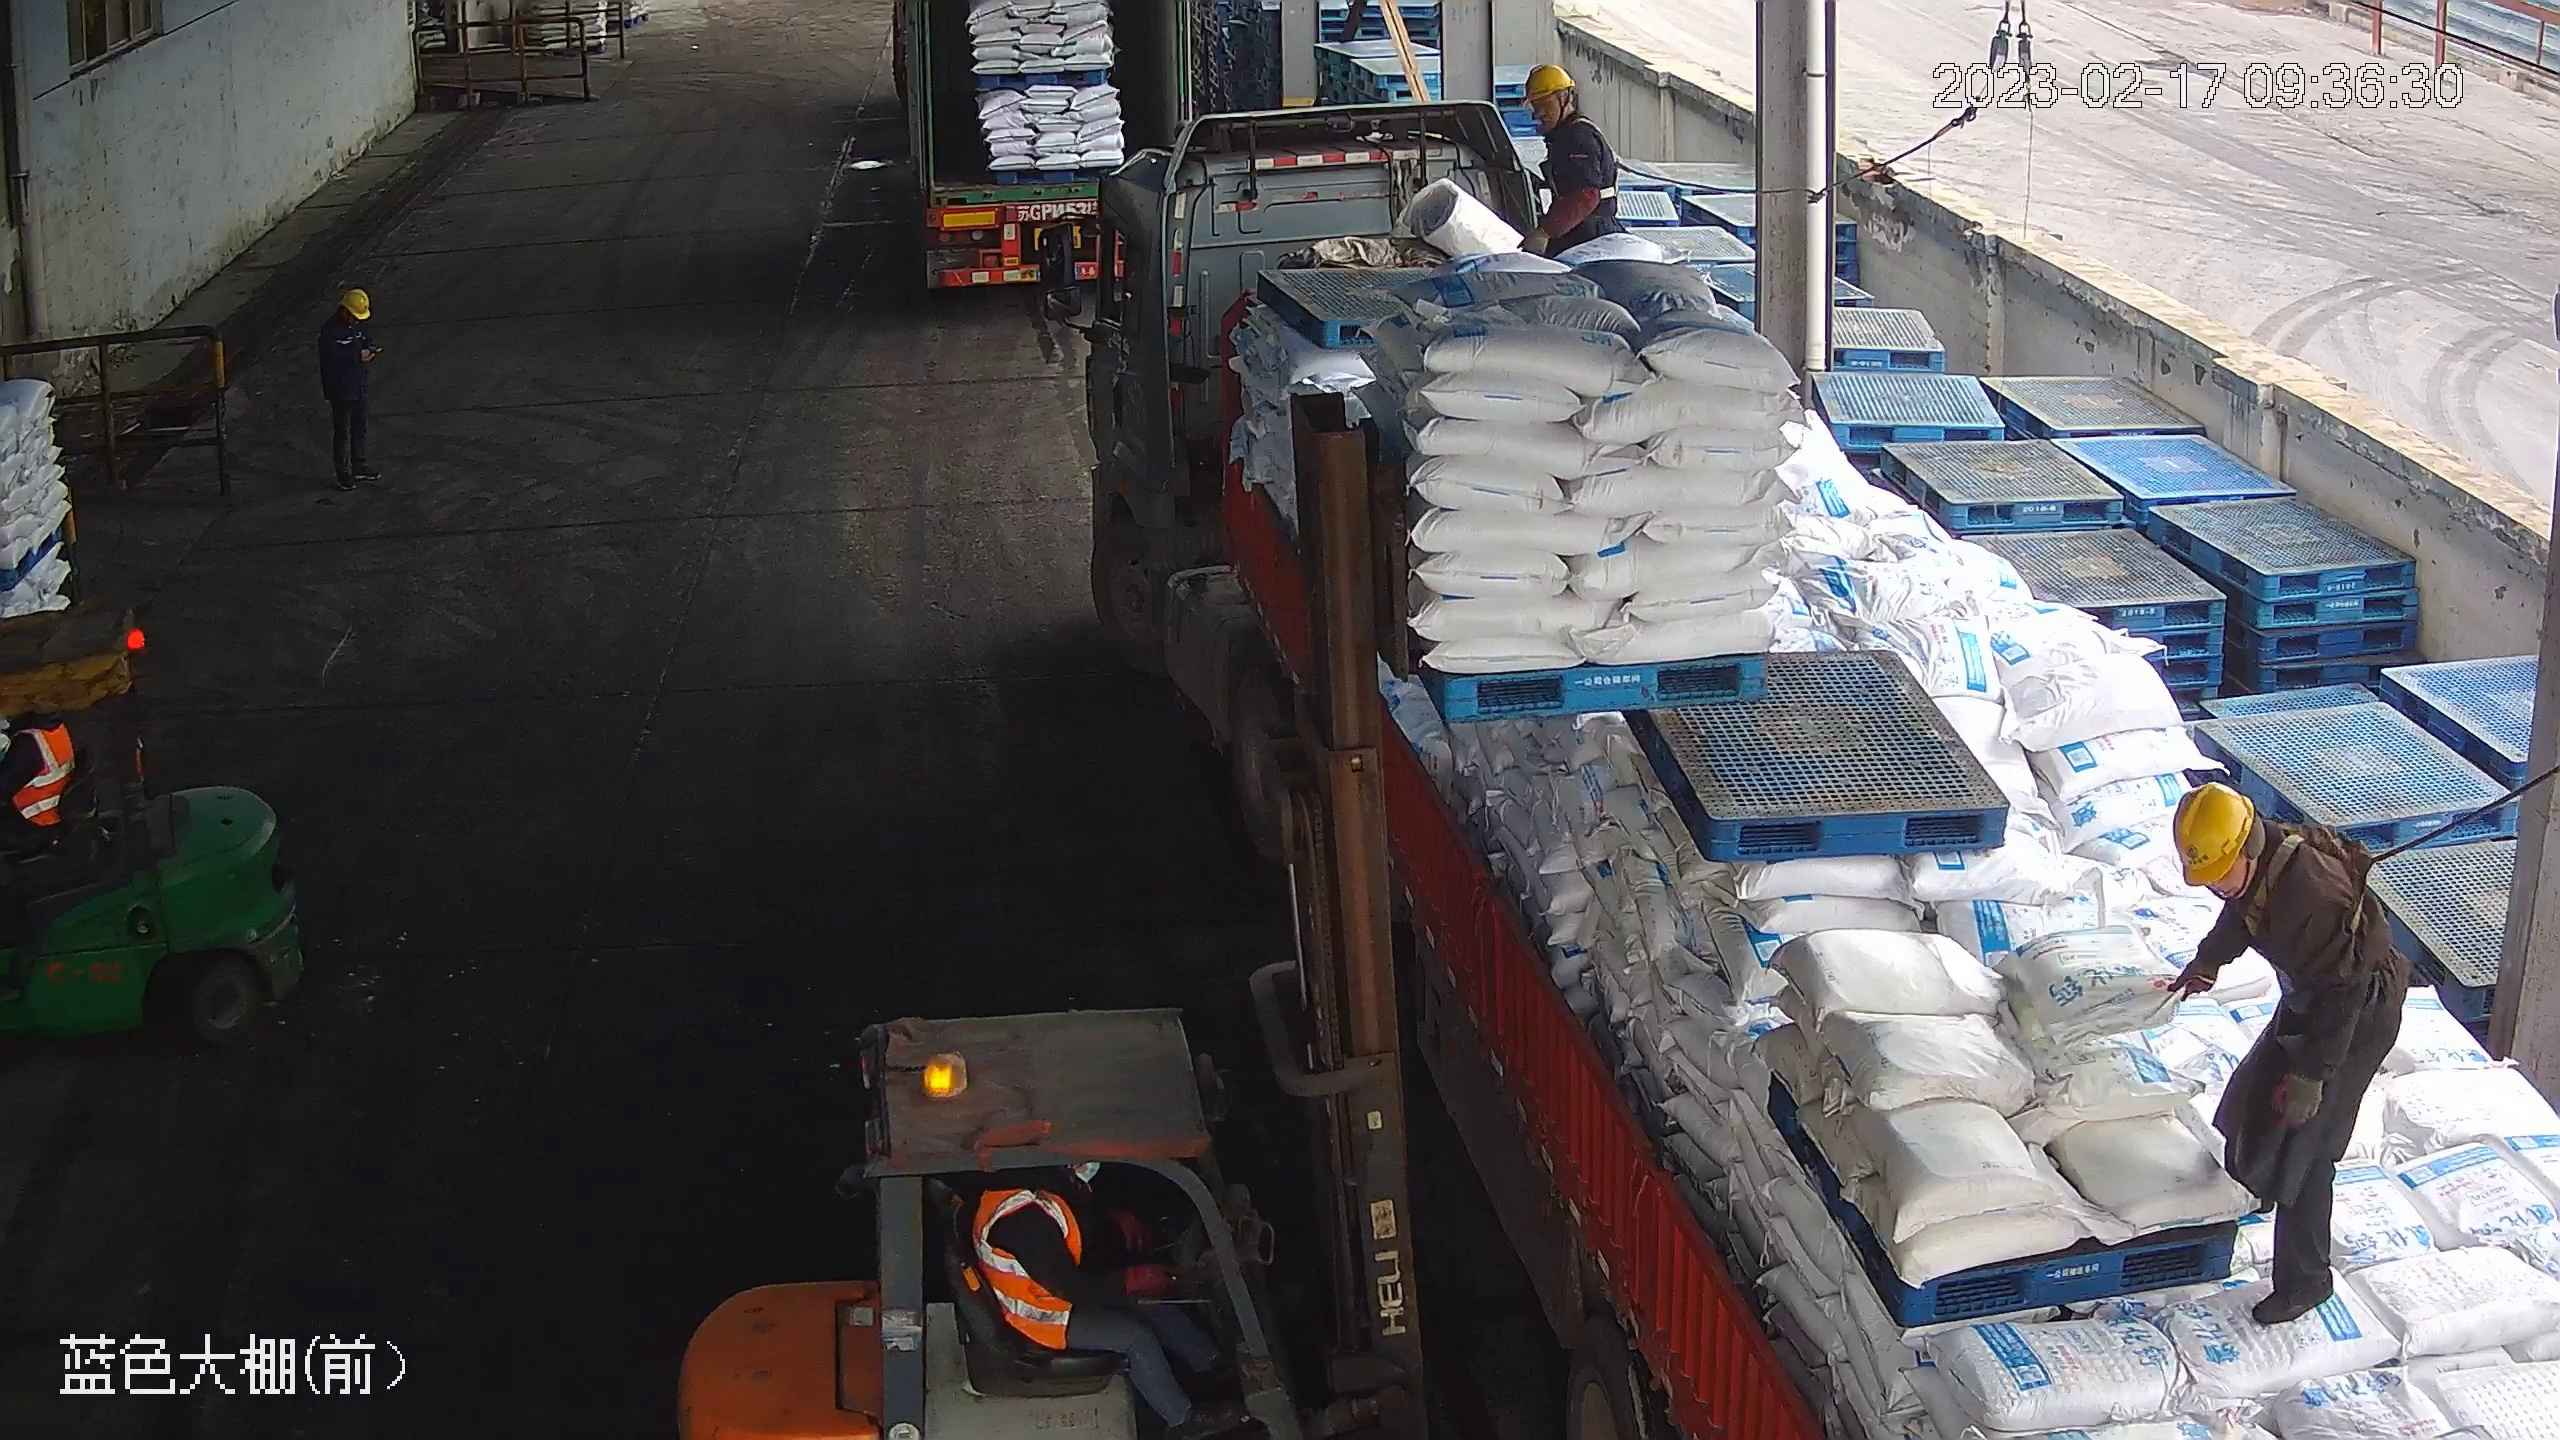belt: (2247, 814, 2378, 955), (1563, 115, 1625, 201)
head: (2169, 780, 2351, 949), (1522, 61, 1613, 168), (319, 287, 375, 348)
helmet: (2170, 780, 2260, 888), (1520, 61, 1575, 106), (339, 287, 370, 315)
people: (2158, 781, 2413, 1330), (967, 1165, 1242, 1431), (1, 704, 78, 898), (316, 287, 385, 489)
truck: (1044, 92, 2554, 1440), (886, 2, 1201, 301)
